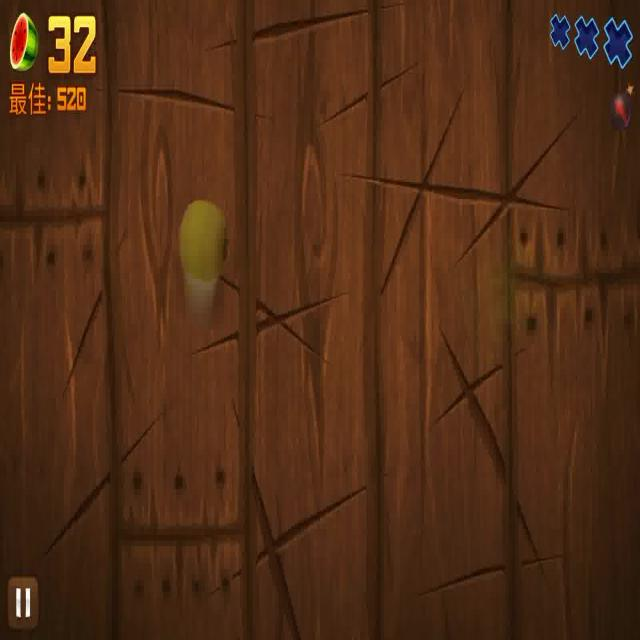fruit: (175, 198, 233, 286)
